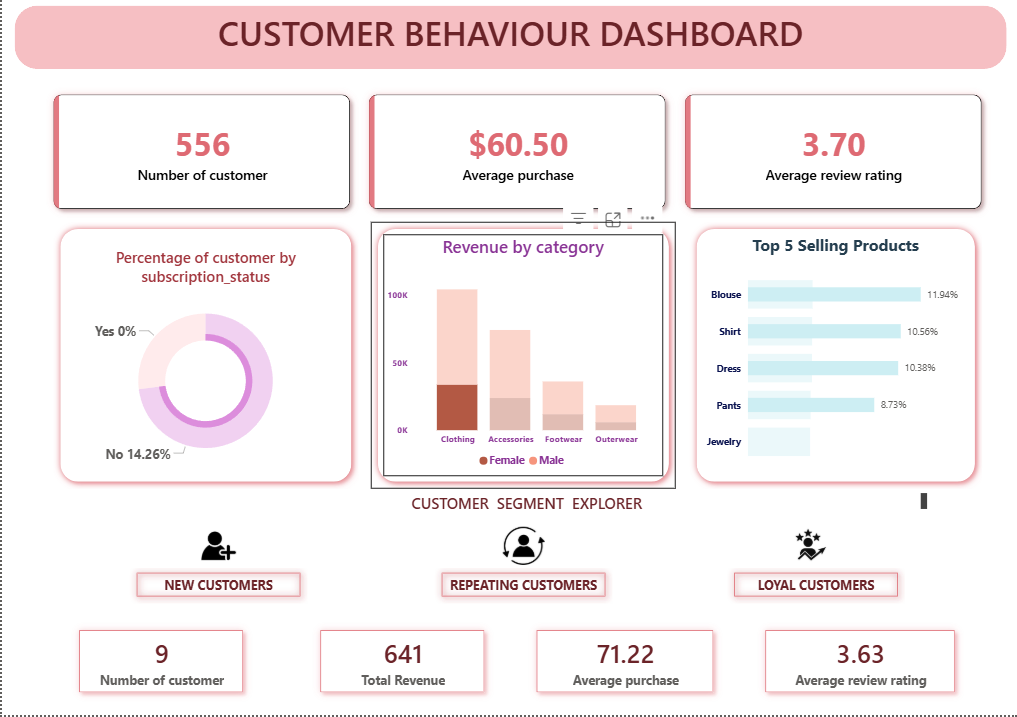

This screenshot's page, from the dashboard's own definition file:
{"tool":"powerbi","page":{"name":"Dashboard","canvas":[1280,910],"ordinal":0},"visuals":[{"type":"cardVisual","fields":{"Data":["customer_shopping_cleaned.Number of customer","customer_shopping_cleaned.Average purchase","customer_shopping_cleaned.Average review rating"]},"box":[48,112,1200,176],"z":0},{"type":"shape","box":[64,288,384,336],"z":0,"group":"g1"},{"type":"shape","box":[464,288,384,336],"z":0,"group":"g2"},{"type":"shape","box":[864,288,368,336],"z":0,"group":"g3"},{"type":"actionButton","box":[160,720,224,48],"z":0,"group":"g4"},{"type":"actionButton","box":[544,720,224,48],"z":0,"group":"g5"},{"type":"actionButton","box":[912,720,224,48],"z":0,"group":"g6"},{"type":"shape","box":[16,16,1248,80],"z":1000},{"type":"columnChart","title":"Revenue by category","fields":{"Category":["customer_shopping_cleaned.category"],"Y":["Sum(customer_shopping_cleaned.purchase_amount)"],"Series":["customer_shopping_cleaned.gender"]},"box":[480,304,352,304],"z":1000,"group":"g2"},{"type":"clusteredBarChart","title":"Top 5  Selling Products","fields":{"Category":["customer_shopping_cleaned.item_purchased"],"Y":["customer_shopping_cleaned.Revenue Contribution %"]},"box":[880,304,336,304],"z":1000,"group":"g3"},{"type":"donutChart","title":"Percentage of customer by subscription_status","fields":{"Category":["customer_shopping_cleaned.subscription_status"],"Y":["Count(customer_shopping_cleaned.customer_id)"]},"box":[80,320,352,288],"z":1000,"group":"g1"},{"type":"image","box":[240,672,64,48],"z":1000,"group":"g4"},{"type":"image","box":[624,672,64,48],"z":1000,"group":"g5"},{"type":"image","box":[960,672,112,48],"z":1000,"group":"g6"},{"type":"textbox","box":[112,16,1056,80],"z":2000},{"type":"group","id":"g1","title":"Group 1","box":[64,288,384,336],"z":3000},{"type":"group","id":"g2","title":"Group 2","box":[464,288,384,336],"z":4000},{"type":"group","id":"g3","title":"Group 3","box":[864,288,368,336],"z":5000},{"type":"group","id":"g4","title":"bn","box":[160,672,224,96],"z":6000},{"type":"group","id":"g5","title":"br","box":[544,672,224,96],"z":7000},{"type":"group","id":"g6","title":"bl","box":[912,672,224,96],"z":8000},{"type":"cardVisual","title":"loyal","fields":{"Data":["customer_shopping_cleaned.Number of customer"]},"box":[96,784,256,112],"z":17000},{"type":"cardVisual","title":"loyal_re","fields":{"Data":["customer_shopping_cleaned.Total Revenue"]},"box":[400,784,240,112],"z":18000},{"type":"cardVisual","title":"loyal_spent","fields":{"Data":["customer_shopping_cleaned.Average purchase"]},"box":[672,784,256,112],"z":19000},{"type":"cardVisual","title":"loyal_rat","fields":{"Data":["customer_shopping_cleaned.Average review rating"]},"box":[960,784,256,112],"z":20000},{"type":"textbox","box":[160,624,1008,32],"z":21000}]}

Visuals, with their boxes in screenshot pixels (x1, y1, x2, y2), scaled from the page's 1280x910 canvas onto the 1017x717 screenshot:
cardVisual - customer_shopping_cleaned.Number of customer x customer_shopping_cleaned.Average purchase: bbox=(38, 88, 992, 227)
shape: bbox=(51, 227, 356, 492)
shape: bbox=(369, 227, 674, 492)
shape: bbox=(686, 227, 979, 492)
actionButton: bbox=(127, 567, 305, 605)
actionButton: bbox=(432, 567, 610, 605)
actionButton: bbox=(725, 567, 903, 605)
shape: bbox=(13, 13, 1004, 76)
"Revenue by category" columnChart: bbox=(381, 240, 661, 479)
"Top 5  Selling Products" clusteredBarChart: bbox=(699, 240, 966, 479)
"Percentage of customer by subscription_status" donutChart: bbox=(64, 252, 343, 479)
image: bbox=(191, 529, 242, 567)
image: bbox=(496, 529, 547, 567)
image: bbox=(763, 529, 852, 567)
textbox: bbox=(89, 13, 928, 76)
"Group 1" group: bbox=(51, 227, 356, 492)
"Group 2" group: bbox=(369, 227, 674, 492)
"Group 3" group: bbox=(686, 227, 979, 492)
"bn" group: bbox=(127, 529, 305, 605)
"br" group: bbox=(432, 529, 610, 605)
"bl" group: bbox=(725, 529, 903, 605)
"loyal" cardVisual: bbox=(76, 618, 280, 706)
"loyal_re" cardVisual: bbox=(318, 618, 508, 706)
"loyal_spent" cardVisual: bbox=(534, 618, 737, 706)
"loyal_rat" cardVisual: bbox=(763, 618, 966, 706)
textbox: bbox=(127, 492, 928, 517)
